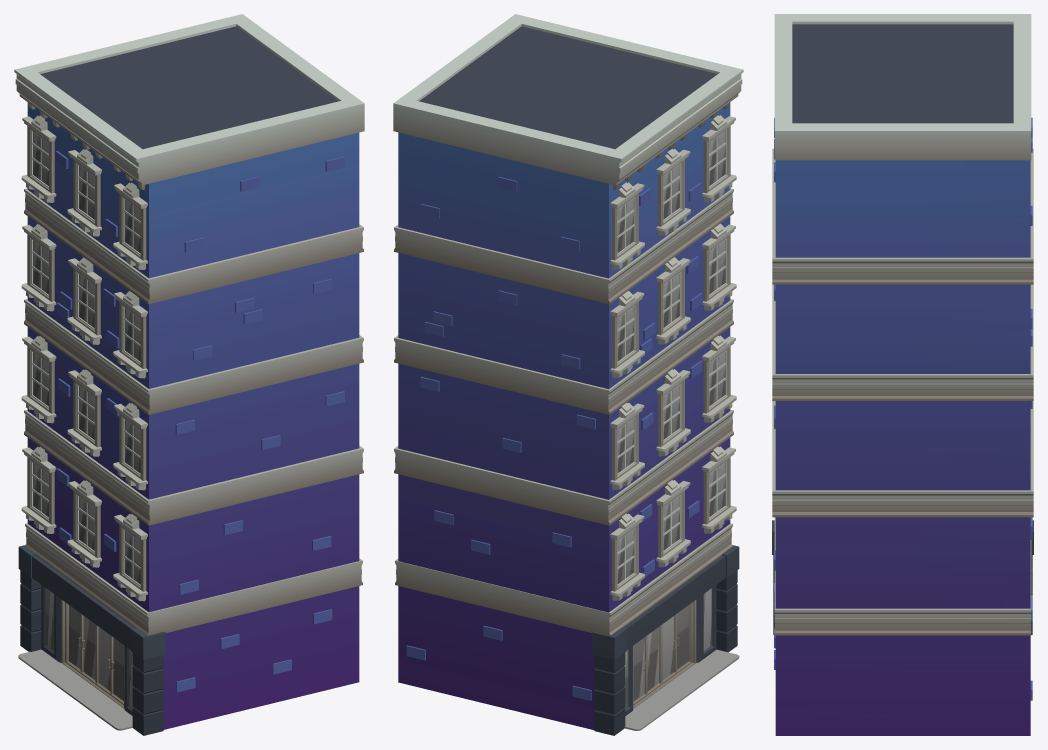
The model's file is Building_21_1_D.fbx.
3 views of the same model, side by side, from view 1: azimuth 30°, elevation 25°; view 2: azimuth 150°, elevation 25°; view 3: azimuth 270°, elevation 25° (orthographic). The views are drawn at different scales.
Parts seen in each view (by area): view 1: Building_21_1_D; view 2: Building_21_1_D; view 3: Building_21_1_D.
Boxes of the visible parts, box(x1,y1,x2,y2) form: Building_21_1_D: box(14, 14, 364, 735); Building_21_1_D: box(393, 14, 743, 735); Building_21_1_D: box(772, 14, 1033, 735).
Bounding box in the file's own units: 779 × 1825 × 713.
